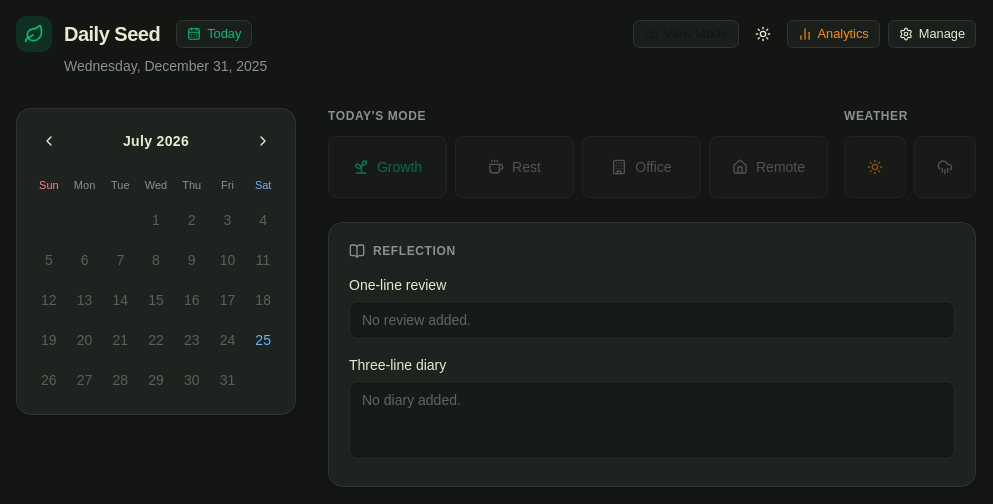
Scenario: App component & Header mode button › renders View Mode button when selectedDate is past and isAdminMode is false
Note: Click View Mode button to toggle to Admin Mode
Click the button "View Mode" at (686, 34), box x1=634 y1=20 x2=739 y2=48
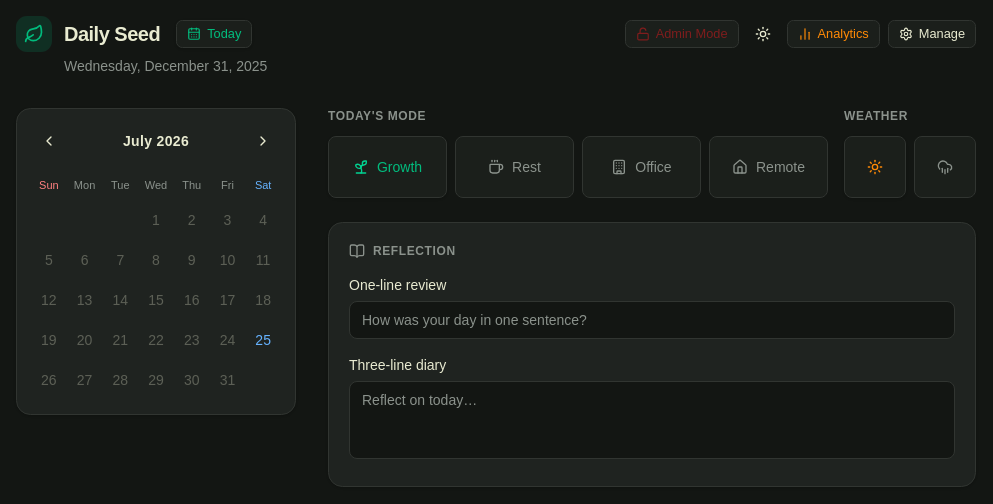
Check: the button "Admin Mode" is shown, box x1=625 y1=20 x2=738 y2=48
